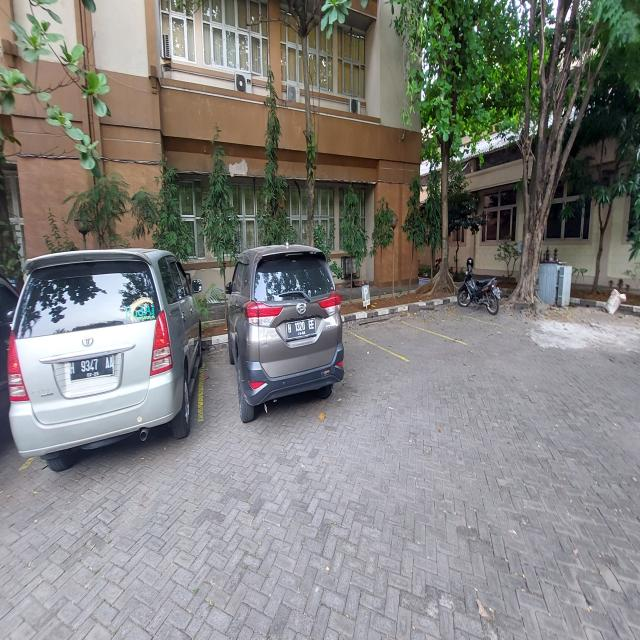empty: (344, 318, 467, 362), (394, 307, 506, 344), (344, 329, 410, 382)
occupied: (7, 248, 204, 477), (200, 245, 348, 437)
